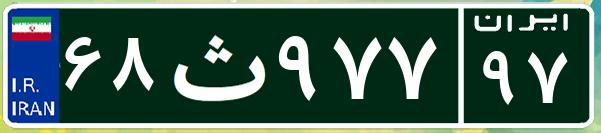6: (57, 26, 110, 107)
7: (385, 28, 445, 110), (330, 28, 385, 110), (525, 38, 570, 115)
8: (110, 28, 158, 105)
9: (273, 28, 330, 110), (475, 38, 525, 113)
ث: (158, 15, 273, 115)
